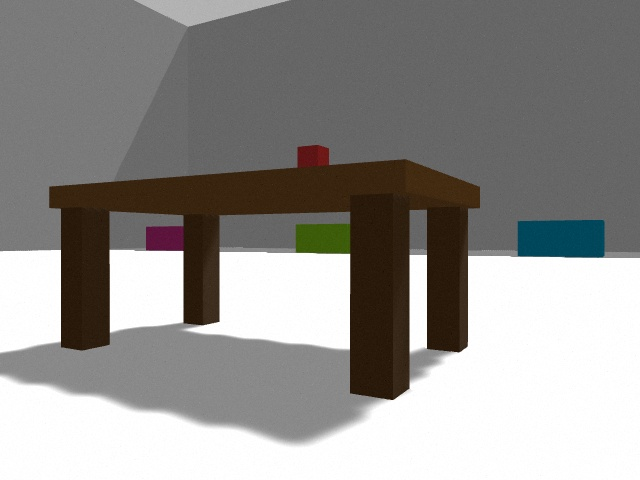blue_drop_zone: (518, 220, 605, 257)
green_drop_zone: (296, 224, 350, 254)
red_cube: (318, 146, 329, 165)
red_drop_zone: (146, 226, 183, 251)
